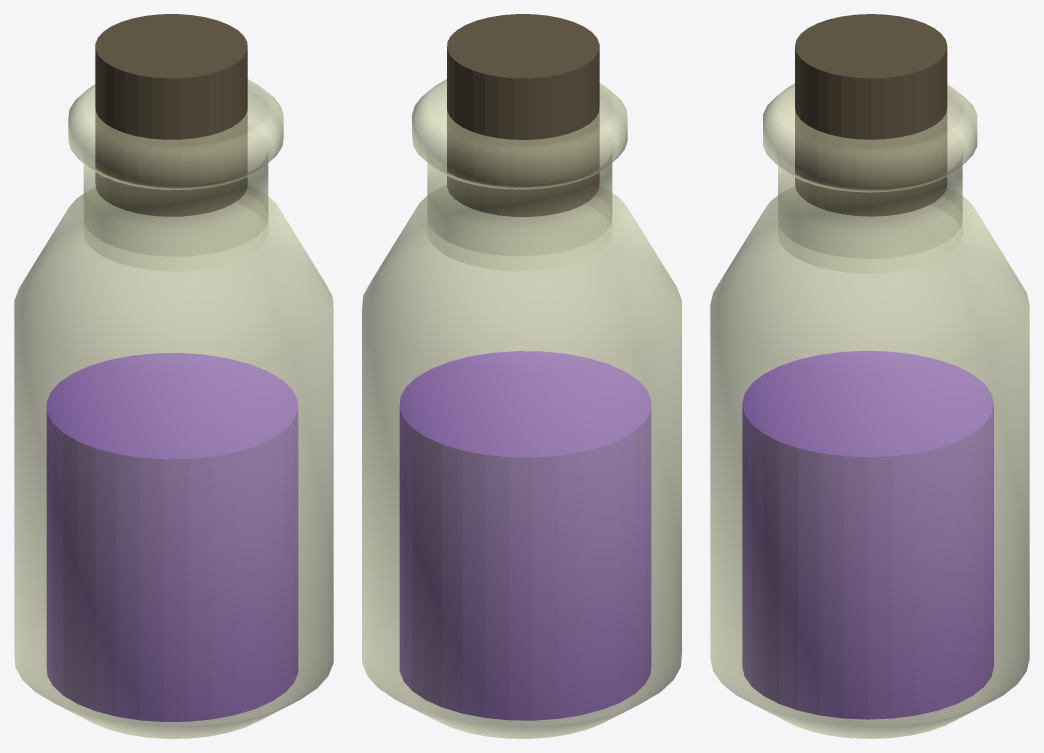
File: verftflesje.fbx
3 views of the same model, side by side, from view 1: azimuth 30°, elevation 25°; view 2: azimuth 150°, elevation 25°; view 3: azimuth 270°, elevation 25° (orthographic).
Parts seen in each view (by area): view 1: Cylinder.012; view 2: Cylinder.012; view 3: Cylinder.012.
Boxes of the visible parts, box(x1,y1,x2,y2) form: Cylinder.012: box(14, 14, 333, 738); Cylinder.012: box(362, 14, 681, 738); Cylinder.012: box(710, 14, 1029, 738).
Bounding box in the file's own units: 3.9 × 8.72 × 3.9.
